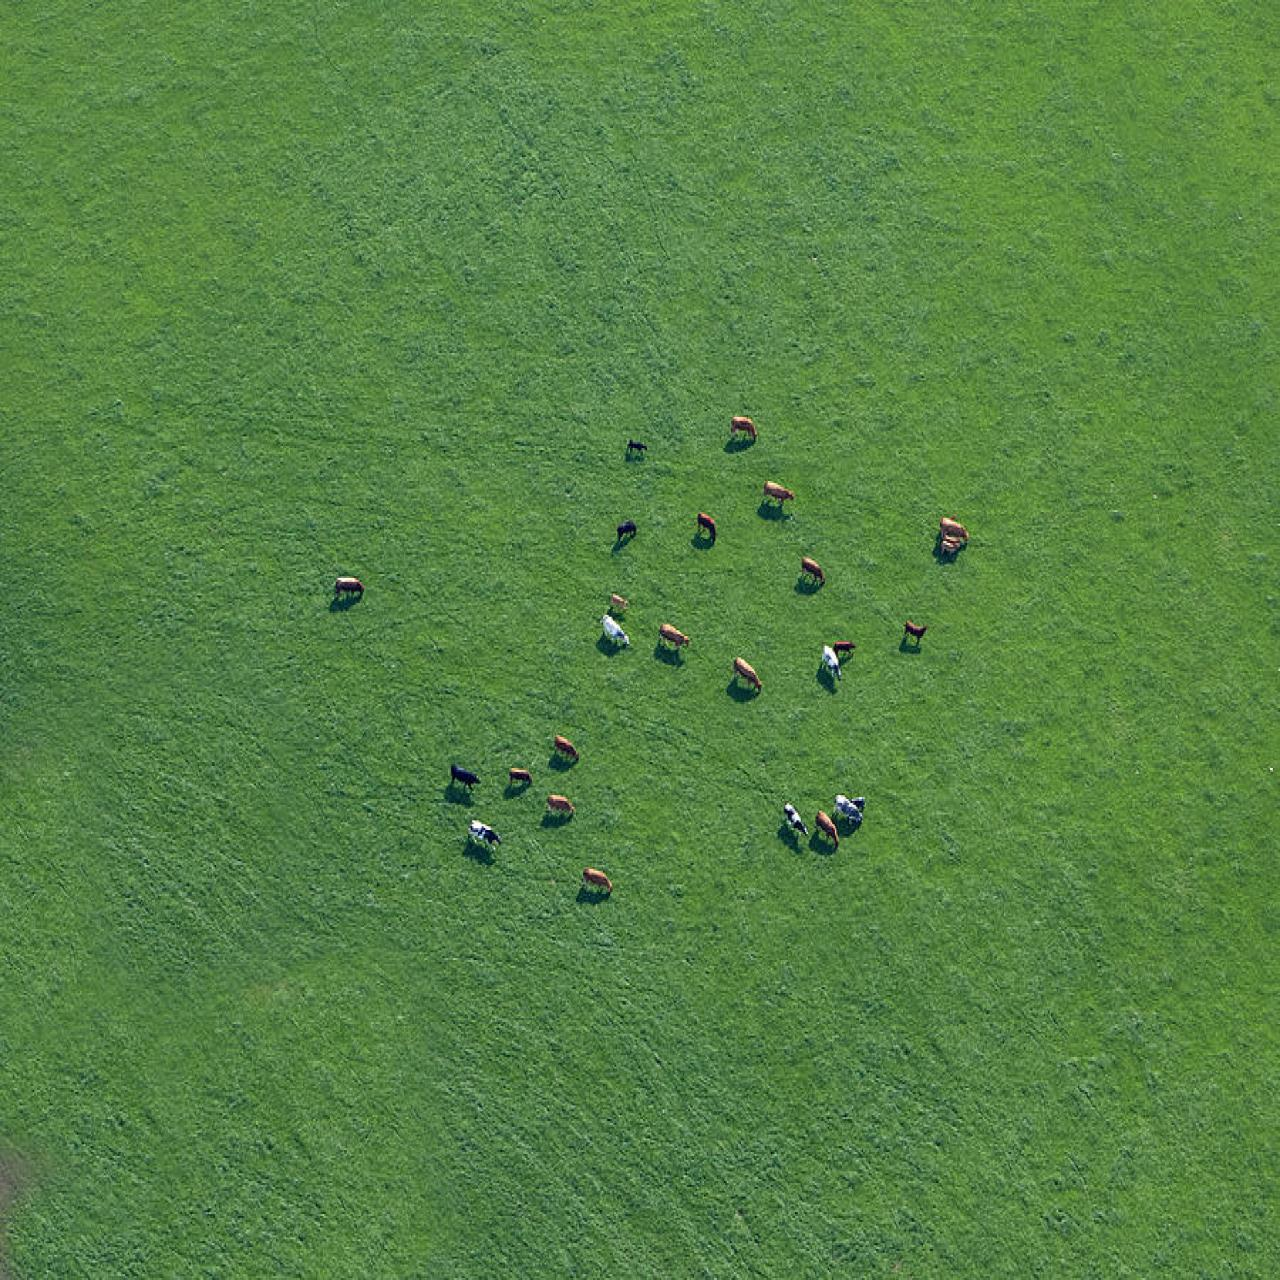cow: (727, 395, 768, 456), (756, 477, 802, 527), (579, 855, 618, 912), (724, 649, 764, 704), (654, 606, 696, 655), (545, 720, 583, 775), (464, 812, 506, 858), (590, 615, 636, 654), (899, 612, 934, 661), (686, 496, 721, 543), (779, 795, 809, 850), (331, 558, 362, 608), (501, 749, 535, 796), (445, 757, 483, 798), (546, 794, 584, 833), (830, 784, 860, 832), (934, 513, 979, 546), (811, 809, 845, 850), (815, 646, 844, 690), (625, 427, 654, 469), (798, 551, 826, 590), (599, 587, 640, 613), (833, 635, 864, 665), (615, 520, 640, 545)
